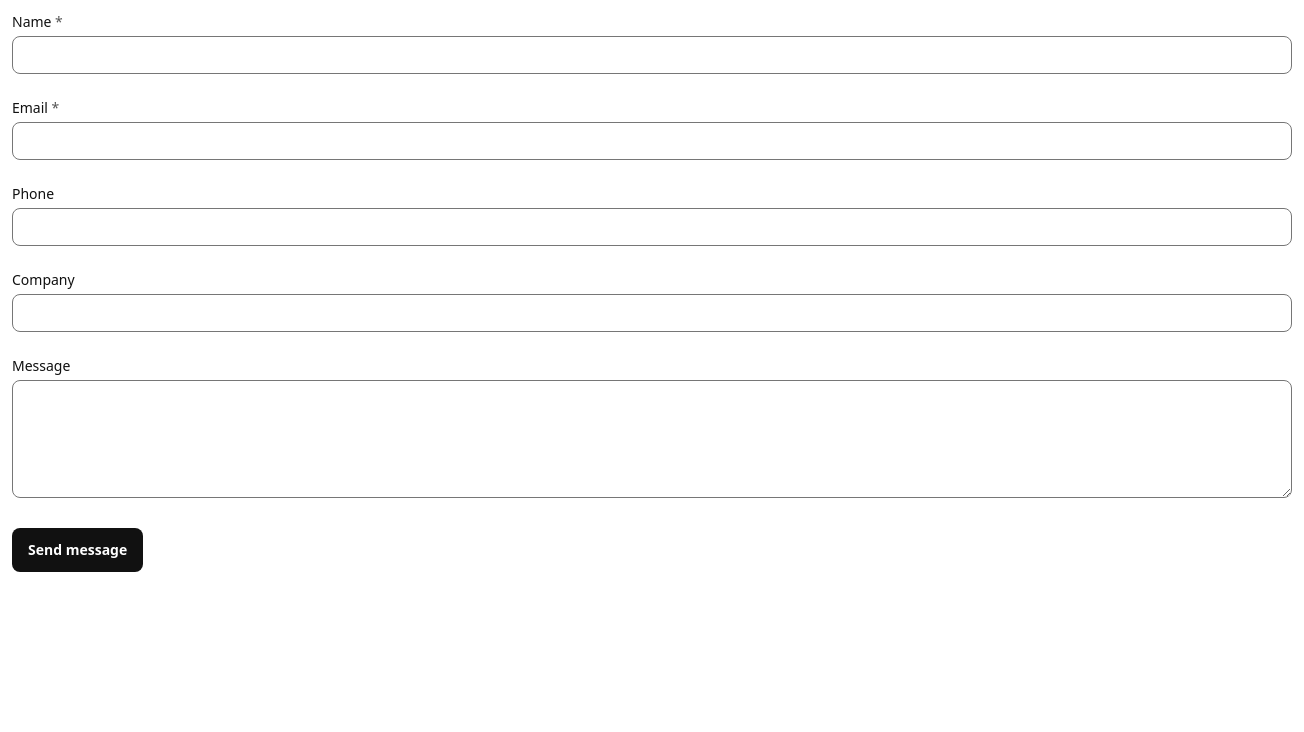
Test: LeadForm › shows a field error for an invalid email and does not submit
Type "Test Person" into the field labelled "Name *" at (652, 55), box [12, 36, 1292, 74]
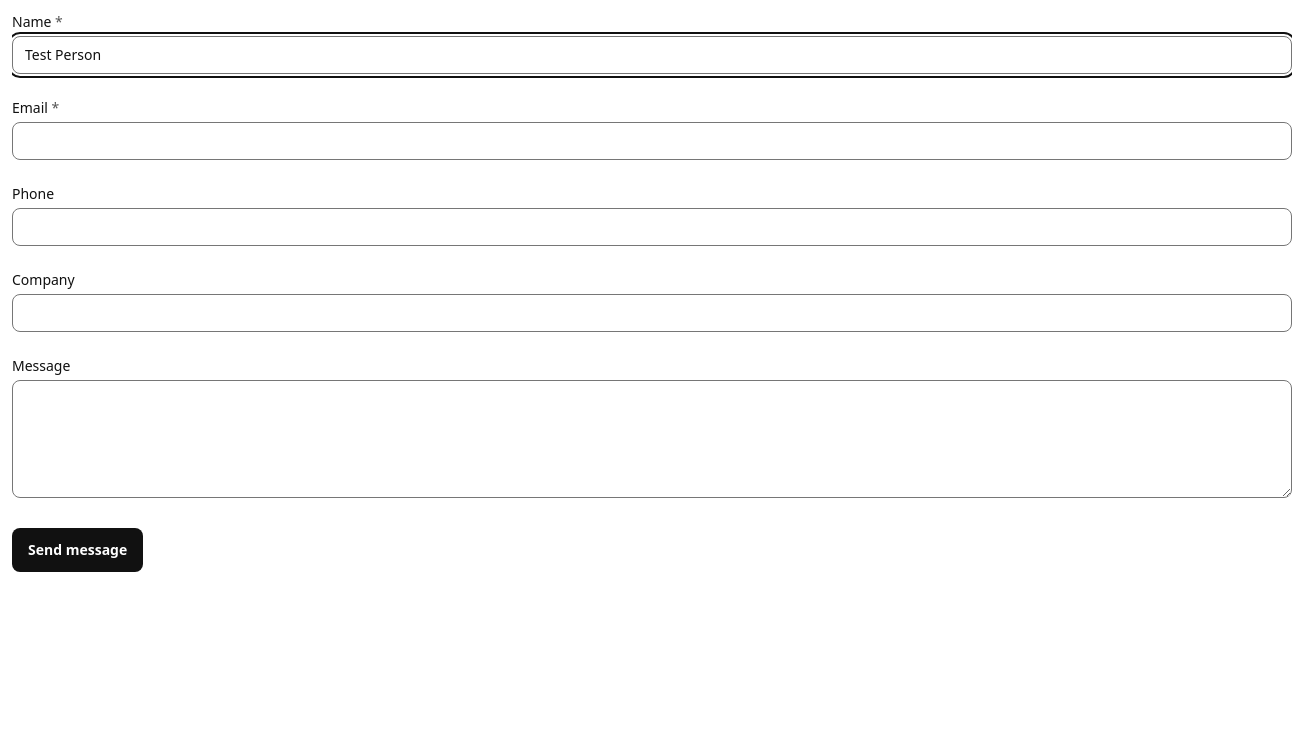
Type "not-an-email" into the field labelled "Email *" at (652, 141), box [12, 122, 1292, 160]
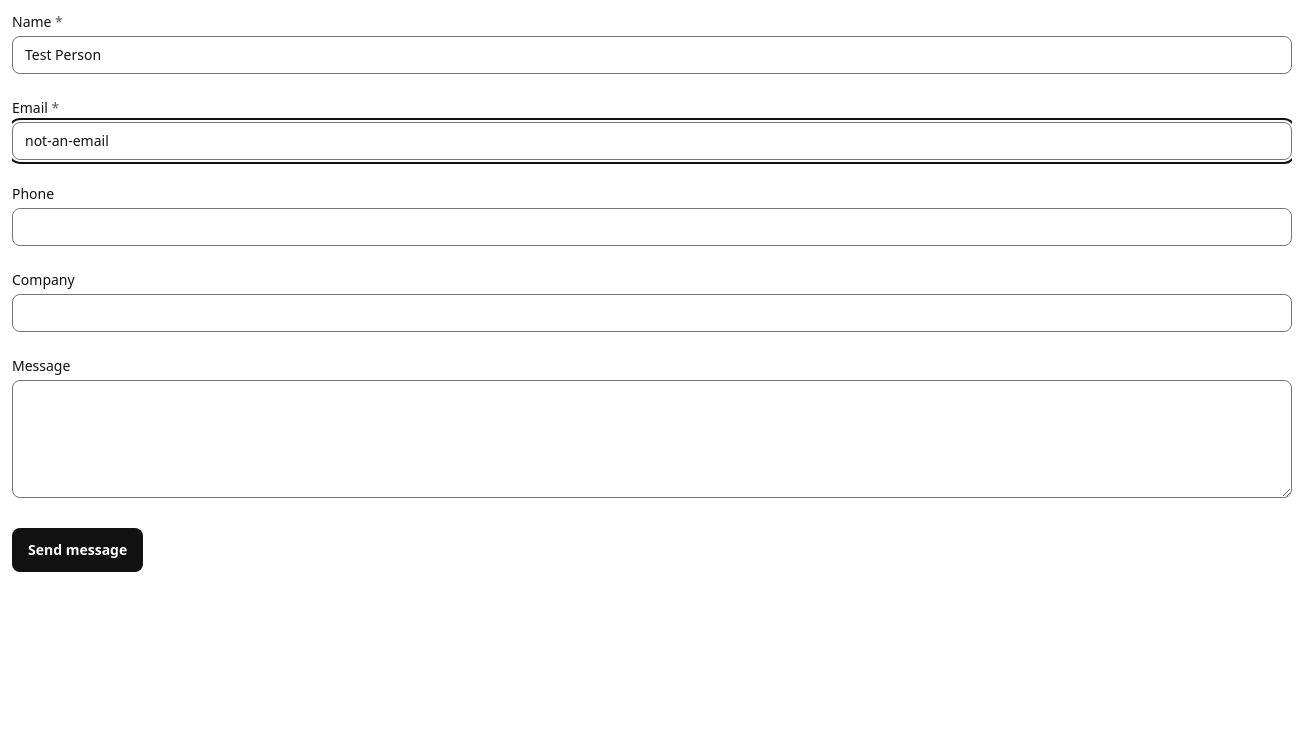
Click the button "Send message" at (78, 550), box [12, 528, 143, 572]
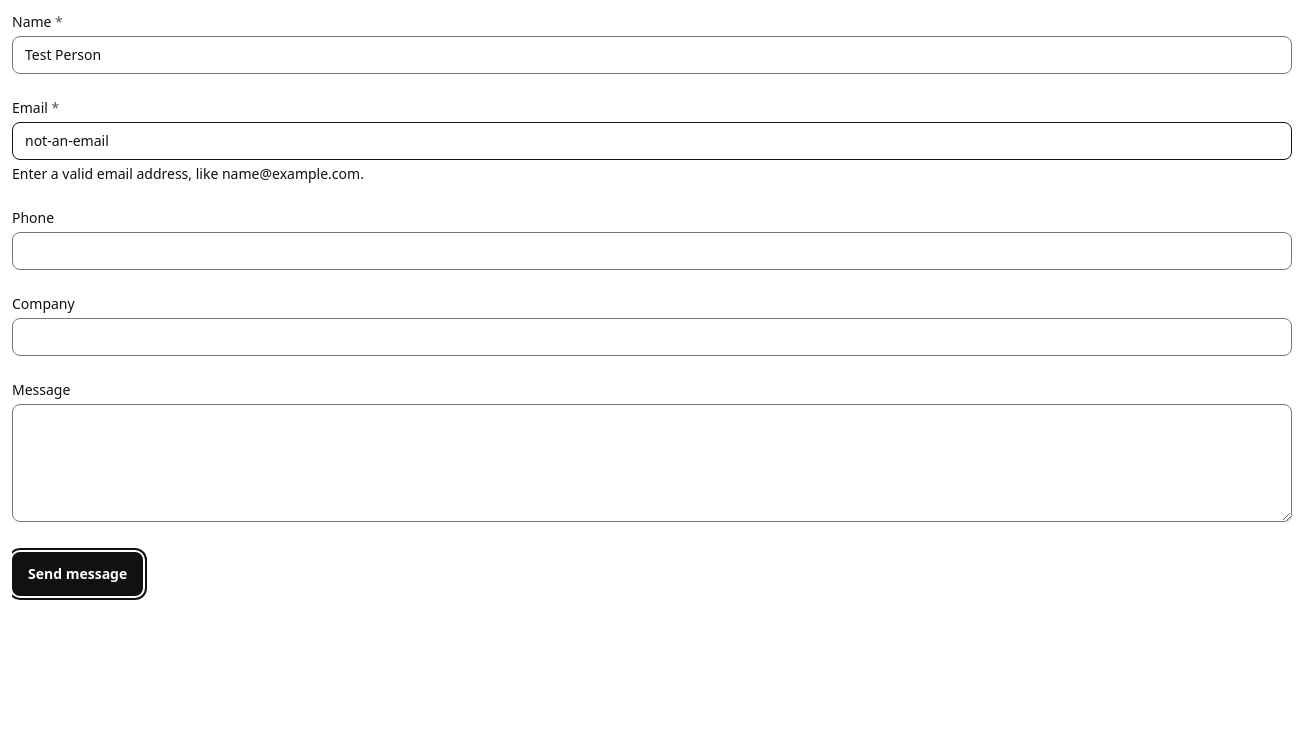
Now the message reads "Enter a valid email address, like name@example.com.", box [12, 164, 364, 183]
